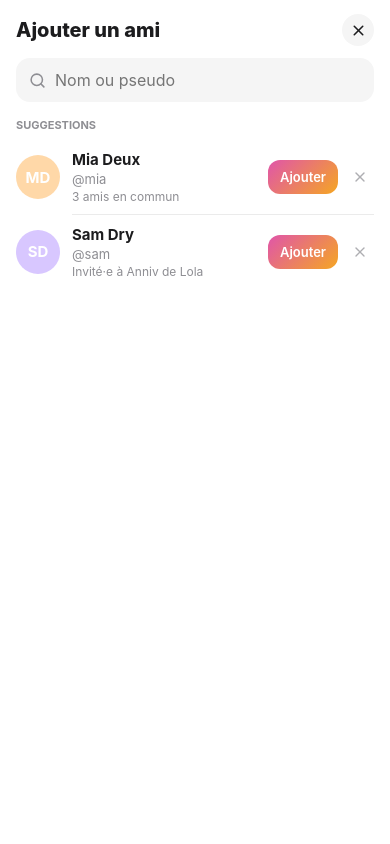
Test: FriendSearchSheet › la croix masque la suggestion
Expected: the text "Mia Deux" is shown, [72,150,140,169]
Click the button named "Masquer Mia Deux".
click(360, 177)  # box [346,163,374,191]
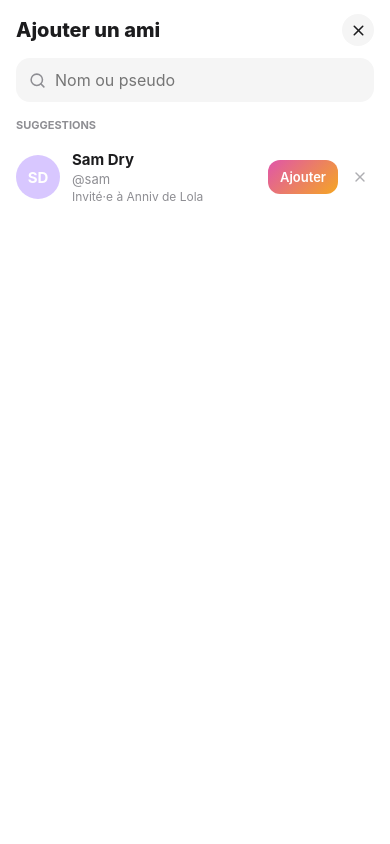
Result: the text "Mia Deux" is gone
